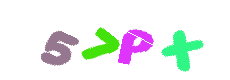5: (18, 0, 98, 80)
7: (74, 0, 154, 80)
P: (94, 0, 174, 80)
X: (107, 0, 187, 80)
